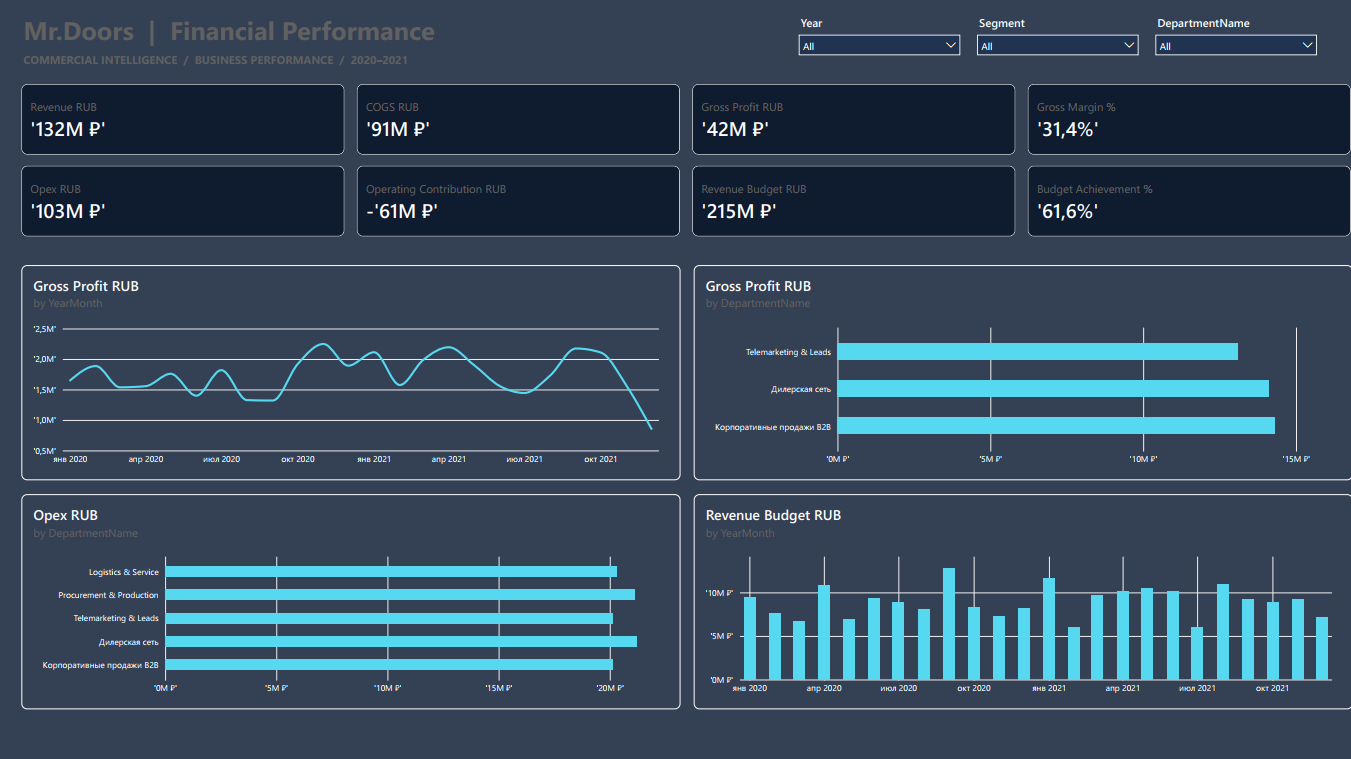

The page's visual inventory and layout, read from the dashboard file:
{"tool":"powerbi","page":{"name":"03 | Financial Performance","canvas":[1920,1080],"ordinal":2},"visuals":[{"type":"slicer","fields":{"Values":["DimDate.Year"]},"box":[1130,20,239,80],"z":10},{"type":"slicer","fields":{"Values":["DimCustomer.Segment"]},"box":[1383,20,239,80],"z":10},{"type":"slicer","fields":{"Values":["DimDepartment.DepartmentName"]},"box":[1636,20,239,80],"z":10},{"type":"cardVisual","fields":{"Data":["FactSales.Revenue RUB"]},"box":[32,118,458,100],"z":10},{"type":"cardVisual","fields":{"Data":["FactSales.COGS RUB"]},"box":[508,118,458,100],"z":10},{"type":"cardVisual","fields":{"Data":["FactSales.Gross Profit RUB"]},"box":[984,118,458,100],"z":10},{"type":"cardVisual","fields":{"Data":["FactSales.Gross Margin %"]},"box":[1460,118,458,100],"z":10},{"type":"cardVisual","fields":{"Data":["FactSales.Opex RUB"]},"box":[32,234,458,100],"z":10},{"type":"cardVisual","fields":{"Data":["FactSales.Operating Contribution RUB"]},"box":[508,234,458,100],"z":10},{"type":"cardVisual","fields":{"Data":["FactSales.Revenue Budget RUB"]},"box":[984,234,458,100],"z":10},{"type":"cardVisual","fields":{"Data":["FactSales.Budget Achievement %"]},"box":[1460,234,458,100],"z":10},{"type":"lineChart","fields":{"Category":["DimDate.YearMonth"],"Y":["FactSales.Gross Profit RUB"]},"box":[32,375,935,305],"z":10},{"type":"clusteredBarChart","fields":{"Category":["DimDepartment.DepartmentName"],"Y":["FactSales.Gross Profit RUB"]},"box":[986,375,935,305],"z":10},{"type":"clusteredBarChart","fields":{"Category":["DimDepartment.DepartmentName"],"Y":["FactSales.Opex RUB"]},"box":[32,700,935,305],"z":10},{"type":"clusteredColumnChart","fields":{"Category":["DimDate.YearMonth"],"Y":["FactSales.Revenue Budget RUB"]},"box":[986,700,935,305],"z":10},{"type":"textbox","box":[35,16,1050,55],"z":15000},{"type":"textbox","box":[35,72,1050,32],"z":15000}]}

Visuals, with their boxes in screenshot pixels (x1, y1, x2, y2), scaled from the page's 1920x1080 canvas onto the 1351x759 screenshot:
slicer - DimDate.Year: box(795, 14, 963, 70)
slicer - DimCustomer.Segment: box(973, 14, 1141, 70)
slicer - DimDepartment.DepartmentName: box(1151, 14, 1319, 70)
cardVisual - FactSales.Revenue RUB: box(23, 83, 345, 153)
cardVisual - FactSales.COGS RUB: box(357, 83, 680, 153)
cardVisual - FactSales.Gross Profit RUB: box(692, 83, 1015, 153)
cardVisual - FactSales.Gross Margin %: box(1027, 83, 1350, 153)
cardVisual - FactSales.Opex RUB: box(23, 164, 345, 235)
cardVisual - FactSales.Operating Contribution RUB: box(357, 164, 680, 235)
cardVisual - FactSales.Revenue Budget RUB: box(692, 164, 1015, 235)
cardVisual - FactSales.Budget Achievement %: box(1027, 164, 1350, 235)
lineChart - DimDate.YearMonth x FactSales.Gross Profit RUB: box(23, 264, 680, 478)
clusteredBarChart - DimDepartment.DepartmentName x FactSales.Gross Profit RUB: box(694, 264, 1350, 478)
clusteredBarChart - DimDepartment.DepartmentName x FactSales.Opex RUB: box(23, 492, 680, 706)
clusteredColumnChart - DimDate.YearMonth x FactSales.Revenue Budget RUB: box(694, 492, 1350, 706)
textbox: box(25, 11, 763, 50)
textbox: box(25, 51, 763, 73)
